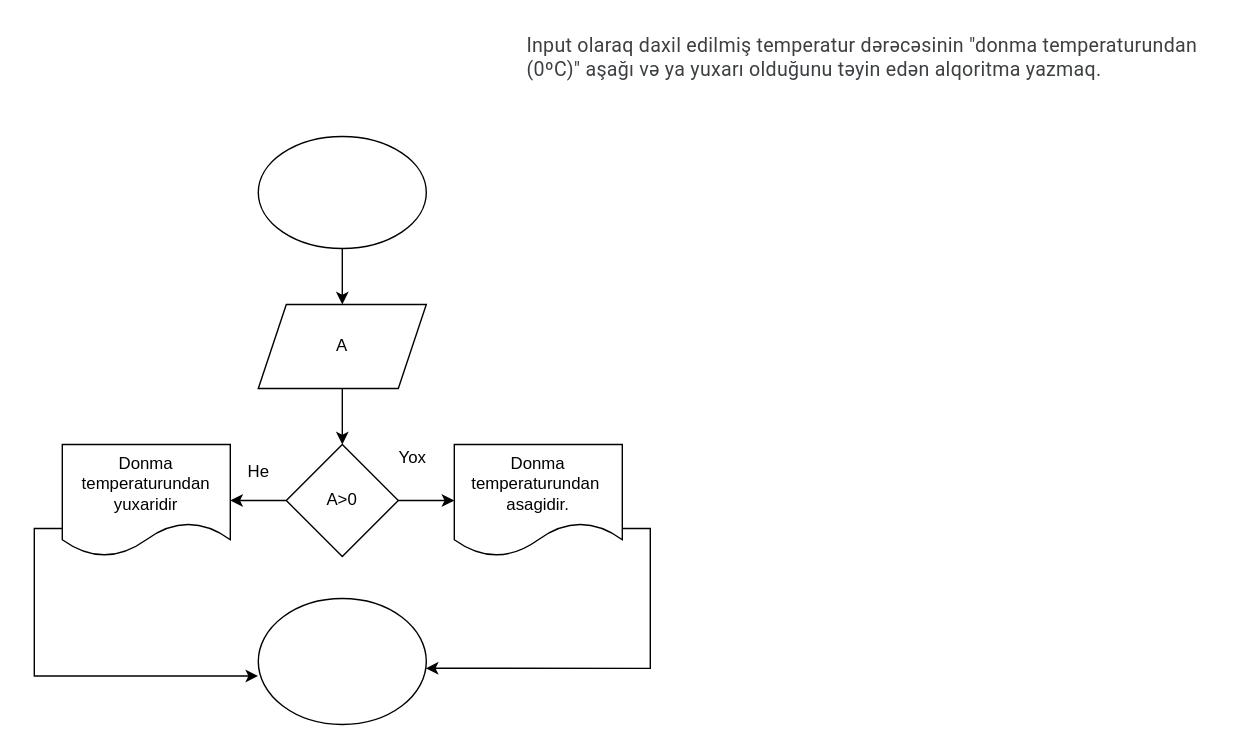
Some shapes in this 1249 by 749 pixel diagram are drawn without their labels. The centre of each missing label's shape, as x and y in pixels:
Başladı.: point 341,191
Son: point 341,660
